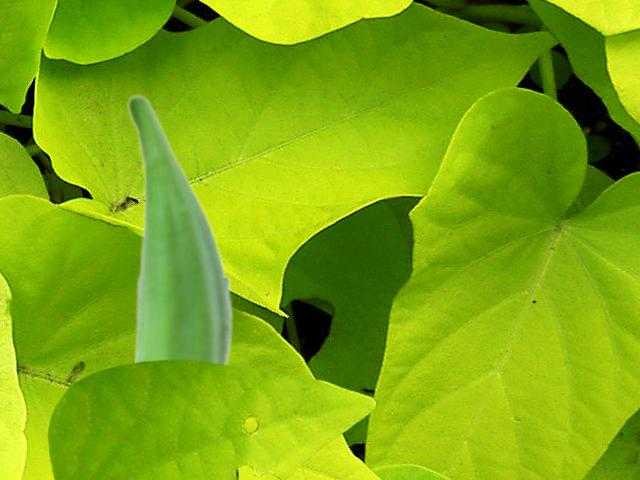okra: (125, 93, 233, 364)
